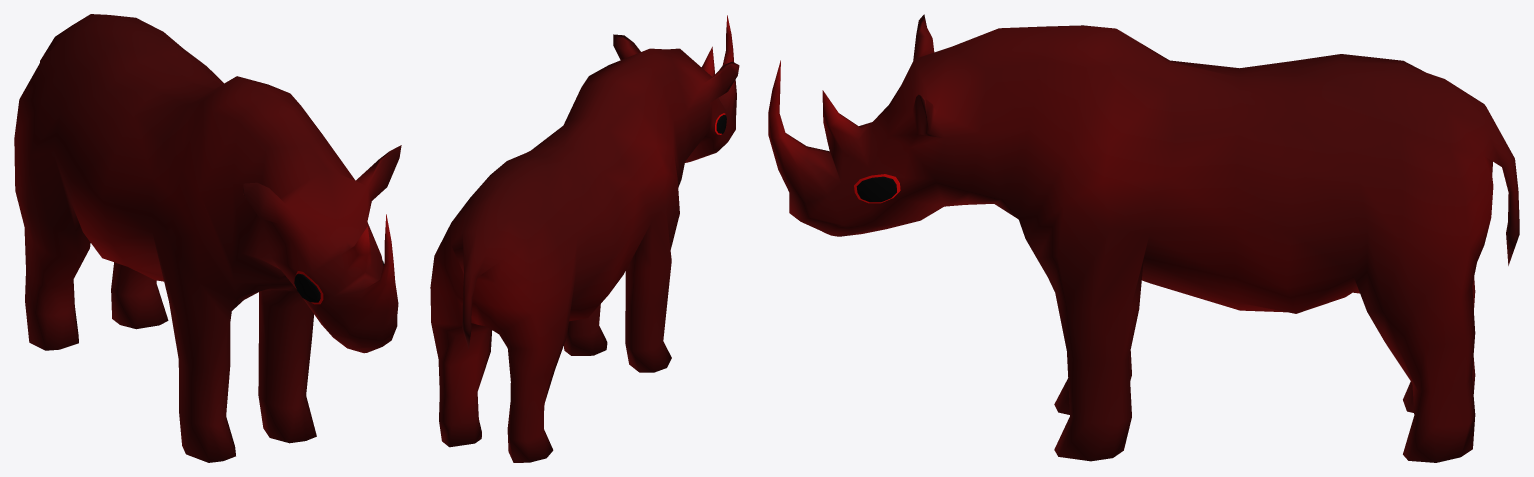
Rendered from Animals_Rhino.fbx.
3 views of the same model, side by side, from view 1: azimuth 30°, elevation 25°; view 2: azimuth 150°, elevation 25°; view 3: azimuth 270°, elevation 25° (orthographic). The views are drawn at different scales.
Parts seen in each view (by area): view 1: base; view 2: base; view 3: base.
Part boxes in pixels (x1,y1,x2,y2): base: [14, 14, 401, 462]; base: [430, 15, 739, 462]; base: [768, 14, 1519, 462].
Bounding box in the file's own units: 103 × 198 × 336.
